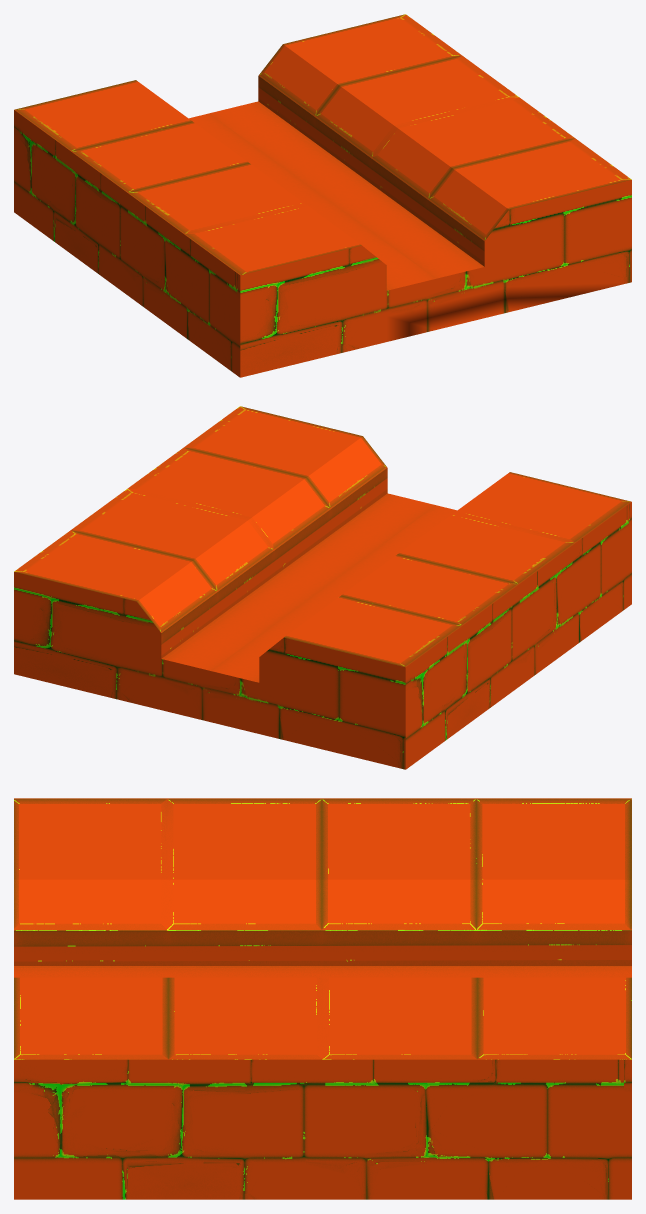
Rendered from Channel Floor Tile.fbx.
The picture shows the model from 3 angles, top to bottom: view 1: azimuth 30°, elevation 25°; view 2: azimuth 150°, elevation 25°; view 3: azimuth 270°, elevation 25°; orthographic projection. The views are drawn at different scales.
Parts seen in each view (by area): view 1: pCube6; view 2: pCube6; view 3: pCube6.
Boxes of the visible parts, x1,y1,x2,y2 form: pCube6: [14, 14, 631, 377]; pCube6: [14, 406, 631, 769]; pCube6: [14, 798, 631, 1199].
Size of the model in its own units: 200 by 50 by 200.
